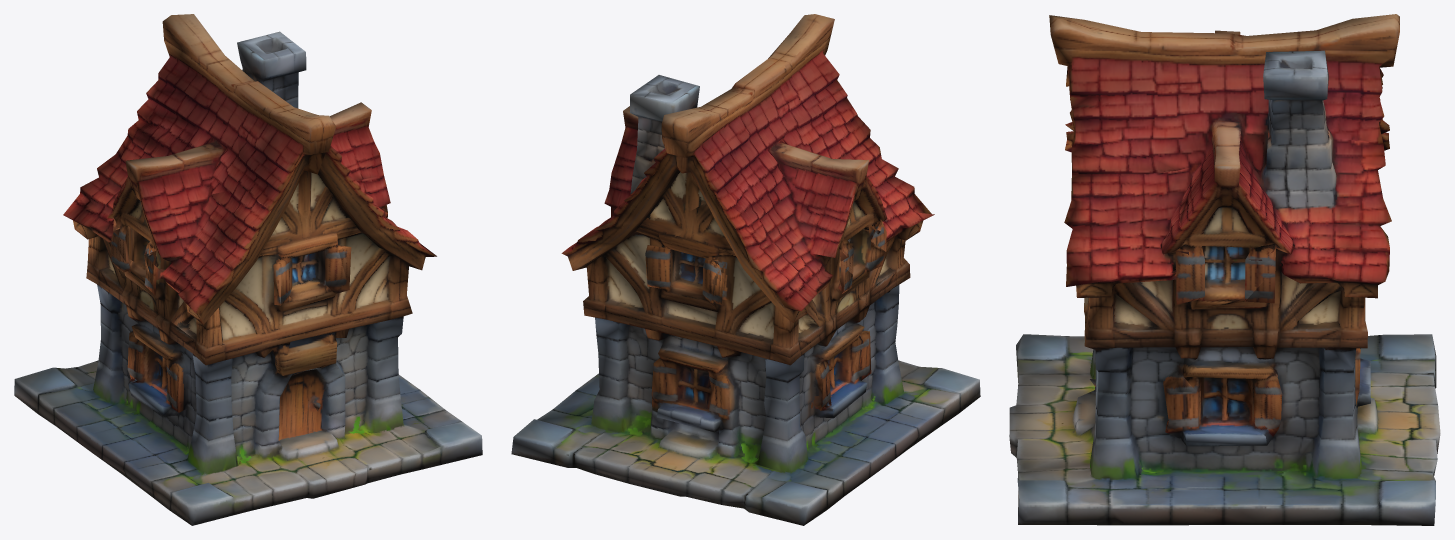
Rendered from HouseFar.fbx.
3 views of the same model, side by side, from view 1: azimuth 30°, elevation 25°; view 2: azimuth 150°, elevation 25°; view 3: azimuth 270°, elevation 25° (orthographic). The views are drawn at different scales.
Visible parts, largest first — view 1: HouseFar; view 2: HouseFar; view 3: HouseFar.
Boxes of the visible parts, x1,y1,x2,y2 form: HouseFar: (14,14,482,525); HouseFar: (511,14,980,525); HouseFar: (1009,14,1440,525).
Size of the model in its own units: 0.8599 by 0.9977 by 0.9158.
